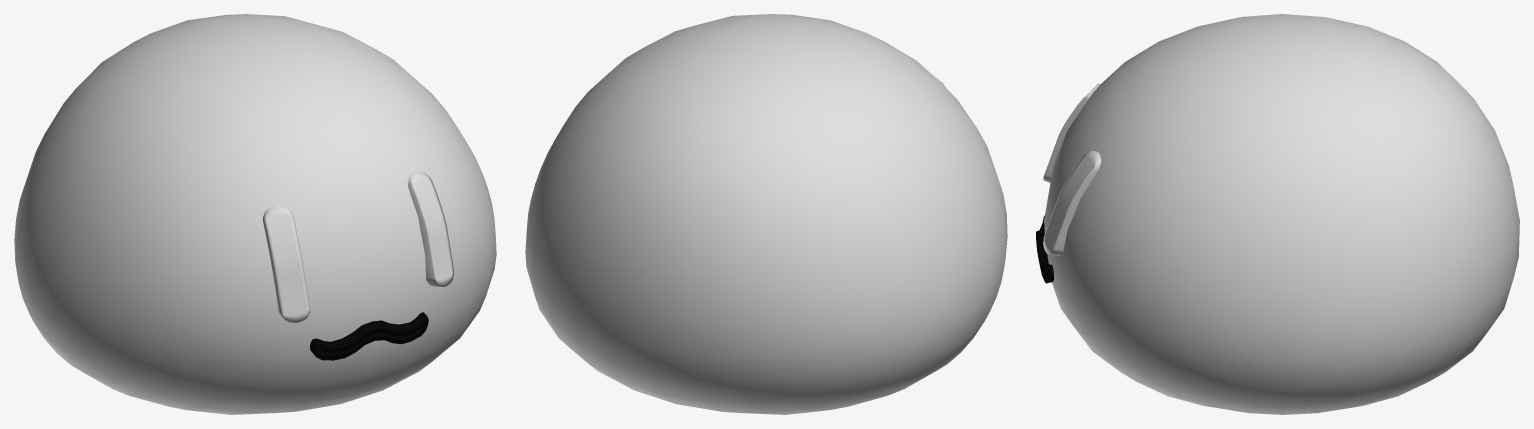
Rendered from Slime_heal_test.fbx.
3 renders of one model, left to right at view 1: azimuth 30°, elevation 25°; view 2: azimuth 150°, elevation 25°; view 3: azimuth 270°, elevation 25°, orthographic.
Parts seen in each view (by area): view 1: Sphere001, Box001, Box006; view 2: Sphere001; view 3: Sphere001, Box001, Box006.
Boxes of the visible parts, box(x1,y1,x2,y2) form: Sphere001: box(14, 14, 496, 414); Box001: box(263, 171, 454, 322); Box006: box(310, 312, 428, 360); Sphere001: box(525, 14, 1007, 414); Sphere001: box(1044, 14, 1519, 414); Box001: box(1043, 83, 1101, 255); Box006: box(1036, 215, 1053, 283).
Bounding box in the file's own units: 56.87 × 57.23 × 43.08.
